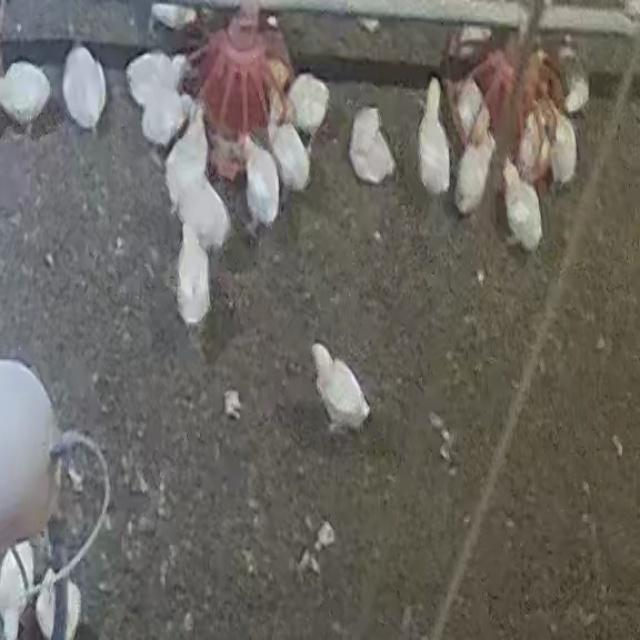chicken: (304, 339, 375, 439), (125, 51, 189, 151), (236, 134, 286, 232), (59, 43, 111, 135), (416, 73, 454, 198), (173, 223, 216, 329), (347, 105, 398, 187), (454, 123, 496, 215), (502, 161, 543, 252), (0, 59, 52, 130), (270, 116, 312, 194), (286, 73, 331, 138), (548, 107, 578, 188)
